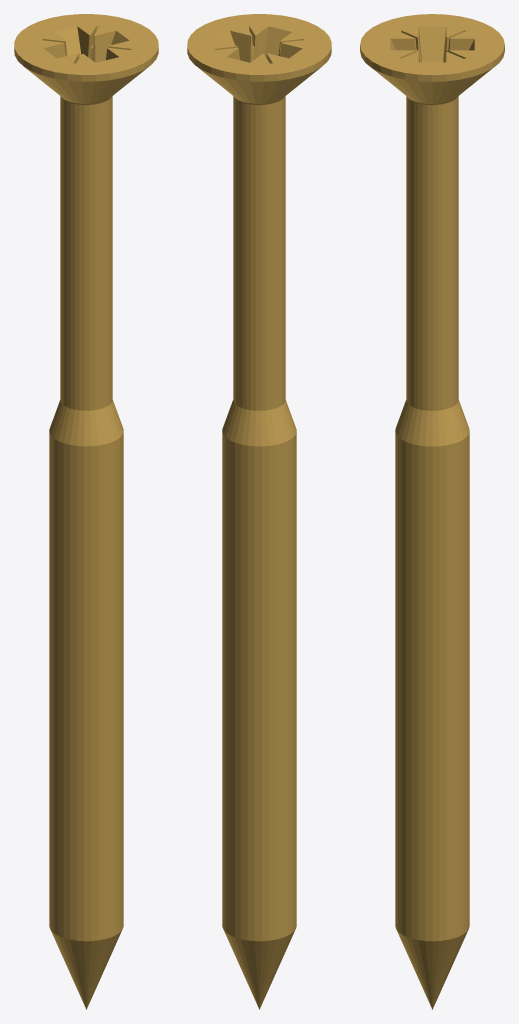
File: model_display.glb
3 renders of one model, left to right at view 1: azimuth 30°, elevation 25°; view 2: azimuth 150°, elevation 25°; view 3: azimuth 270°, elevation 25°, orthographic.
Visible parts, largest first — view 1: geometry_0; view 2: geometry_0; view 3: geometry_0.
Boxes of the visible parts, left/top/right/bottom form: geometry_0: left=14, top=14, right=158, bottom=1009; geometry_0: left=187, top=14, right=331, bottom=1009; geometry_0: left=360, top=14, right=504, bottom=1009.
Bounding box in the file's own units: 0.0068 × 0.05 × 0.0068.
